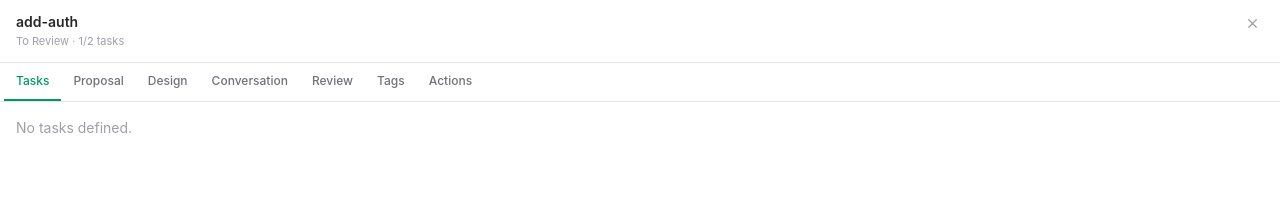
Test: DetailPanel review actions › disables both buttons while a correction is being sent
This screenshot has width=1280, height=211.
Click the button "Actions" at [450, 82], box [417,63,484,101]
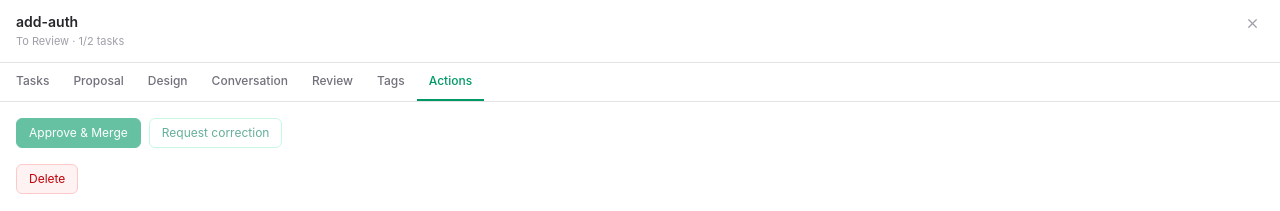
Expected: the button "Approve & Merge" is disabled, [16,118,141,148]
Expected: the button "Request correction" is disabled, [149,118,282,148]
